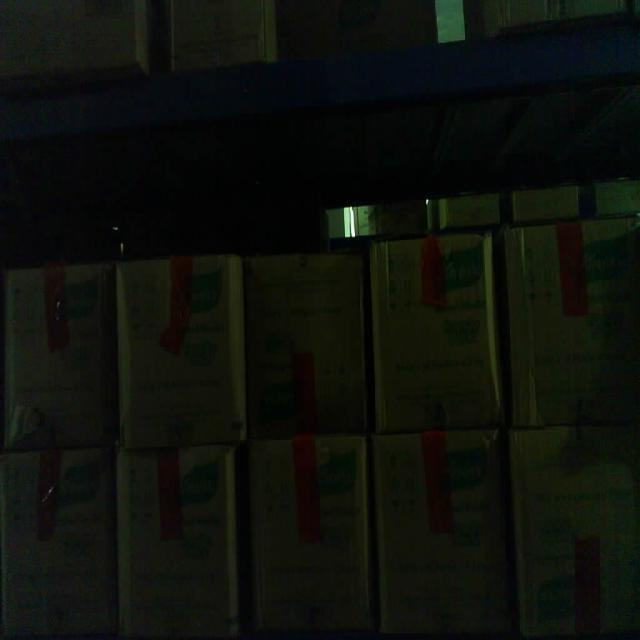box: (500, 222, 640, 432), (503, 433, 640, 640), (368, 436, 506, 640), (112, 249, 248, 453), (371, 231, 500, 440), (240, 440, 370, 640), (241, 243, 370, 442), (109, 447, 240, 640), (3, 257, 119, 450), (0, 447, 114, 640)
